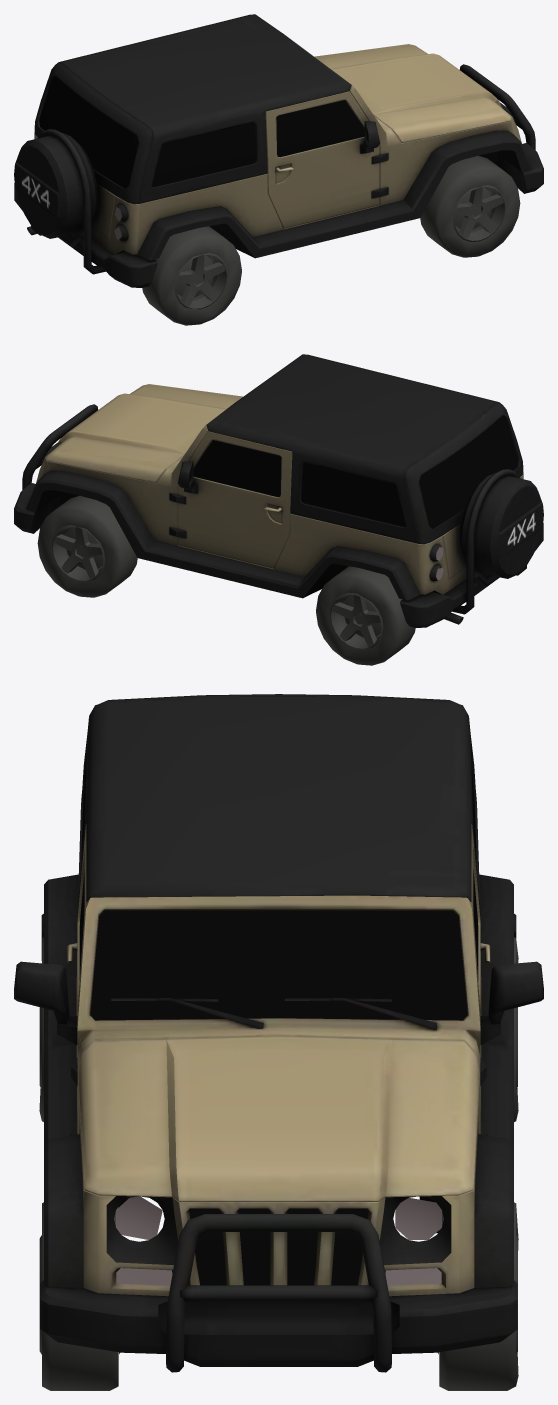
File: pc-offroad-beige.lod0.glb
The picture shows the model from 3 angles, top to bottom: view 1: azimuth 30°, elevation 25°; view 2: azimuth 150°, elevation 25°; view 3: azimuth 270°, elevation 25°; orthographic projection. The views are drawn at different scales.
Parts seen in each view (by area): view 1: Offroad Body_Body_0, Wheel_G_Wheel_0; view 2: Offroad Body_Body_0, Wheel_G_Wheel_0; view 3: Offroad Body_Body_0, Wheel_G_Wheel_0.
Boxes of the visible parts, x1,y1,x2,y2 form: Offroad Body_Body_0: [14, 14, 543, 287]; Wheel_G_Wheel_0: [39, 76, 520, 325]; Offroad Body_Body_0: [14, 354, 543, 627]; Wheel_G_Wheel_0: [37, 416, 518, 665]; Offroad Body_Body_0: [14, 694, 543, 1372]; Wheel_G_Wheel_0: [39, 772, 518, 1390].
Bounding box in the file's own units: 3.94 × 1.57 × 1.96.
2 materials, 1 textured.
